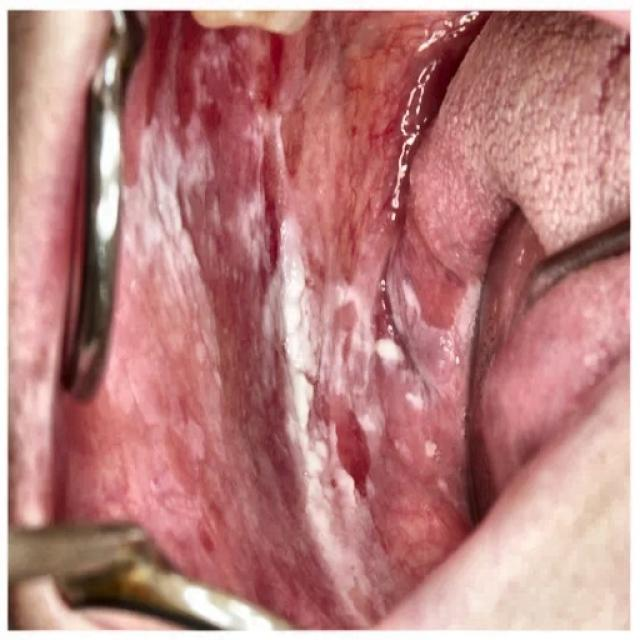leukoplakia-detection: (110, 31, 484, 625)
processing_area: (68, 10, 635, 635)
